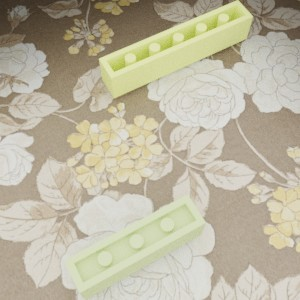lego: (98, 0, 253, 98), (64, 194, 206, 300)
